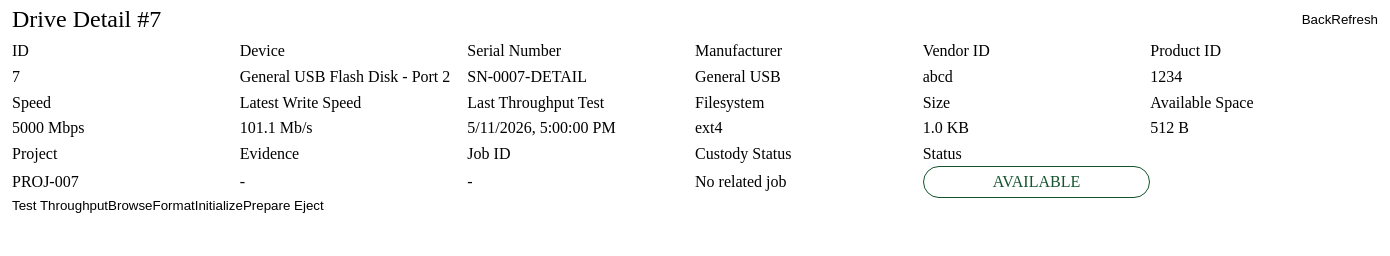
Test case: DriveDetailView mount workflow › shows the latest measured write speed and runs the throughput test for managers
The width and height of the screenshot is (1390, 256).
Click the button "Test Throughput". click: point(60, 206)
box: [12, 198, 108, 213]
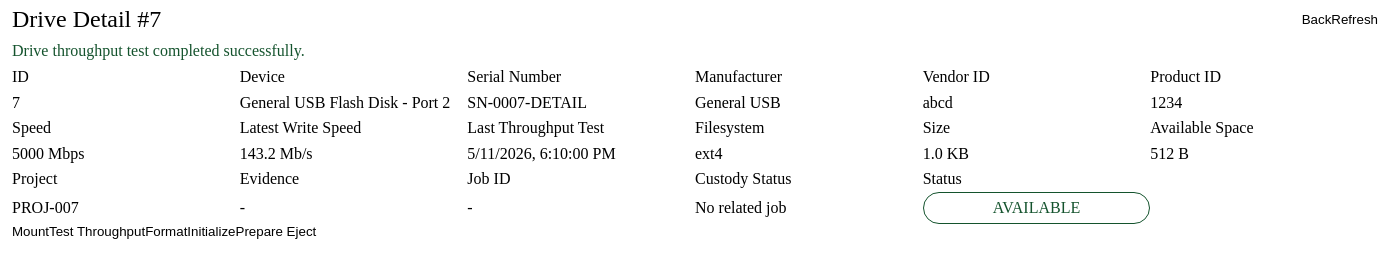
Check: the text "Drive throughput test completed successfully." is shown, box [12, 42, 305, 59]
Check: the text "143.2 Mb/s" is shown, box [240, 145, 313, 162]
